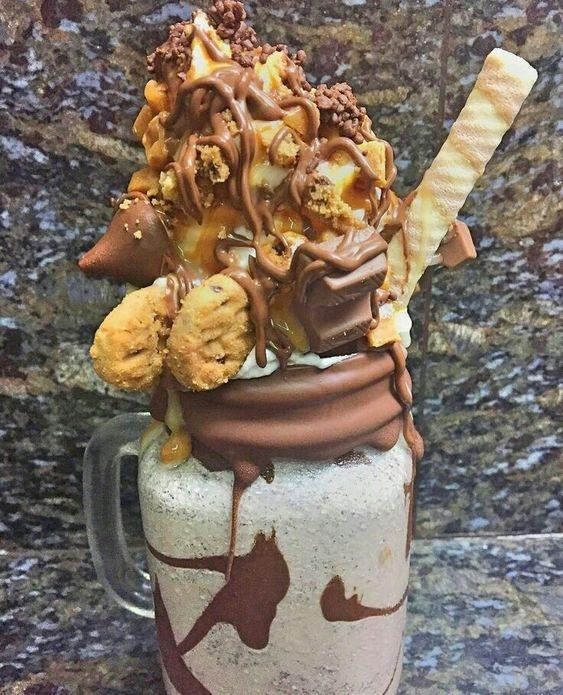glass-mug: (78, 345, 422, 695)
